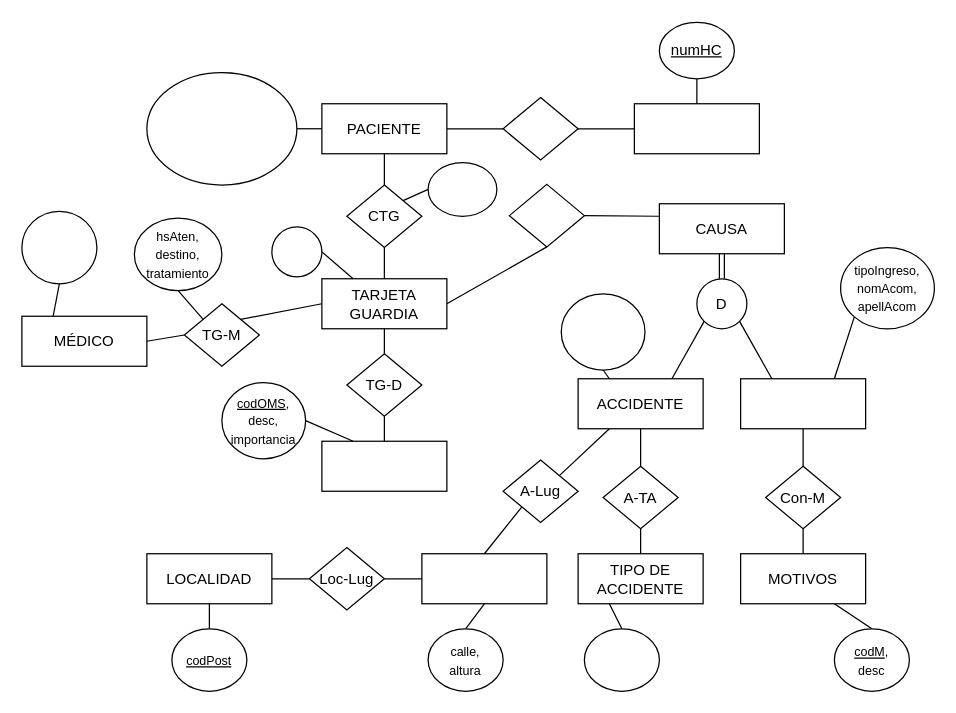
Image size: 956x713. Some labels were removed from this diagram. The shapes that lost their labels are listed below. From the top down, each one's box as (x1, y1, x2, y2) in pixels, then its label:
(146, 71, 297, 185): dni , tipoDni nombre, apellido, dirección, telefono, fechaNac
(502, 96, 578, 160): P-HC
(633, 102, 759, 154): HISTORIA CLÍNICA
(427, 161, 497, 216): fecha, hsIngr
(508, 183, 584, 247): TG-Cau
(21, 210, 97, 284): matrícula , apellido, nombres
(271, 226, 322, 277): nroTG
(560, 292, 645, 370): fechaAcc, horaAcc
(739, 378, 866, 429): CONSULTA
(321, 440, 447, 491): DIAGNÓSTICO
(421, 552, 547, 604): LUGAR
(583, 628, 659, 691): codTA , desc
